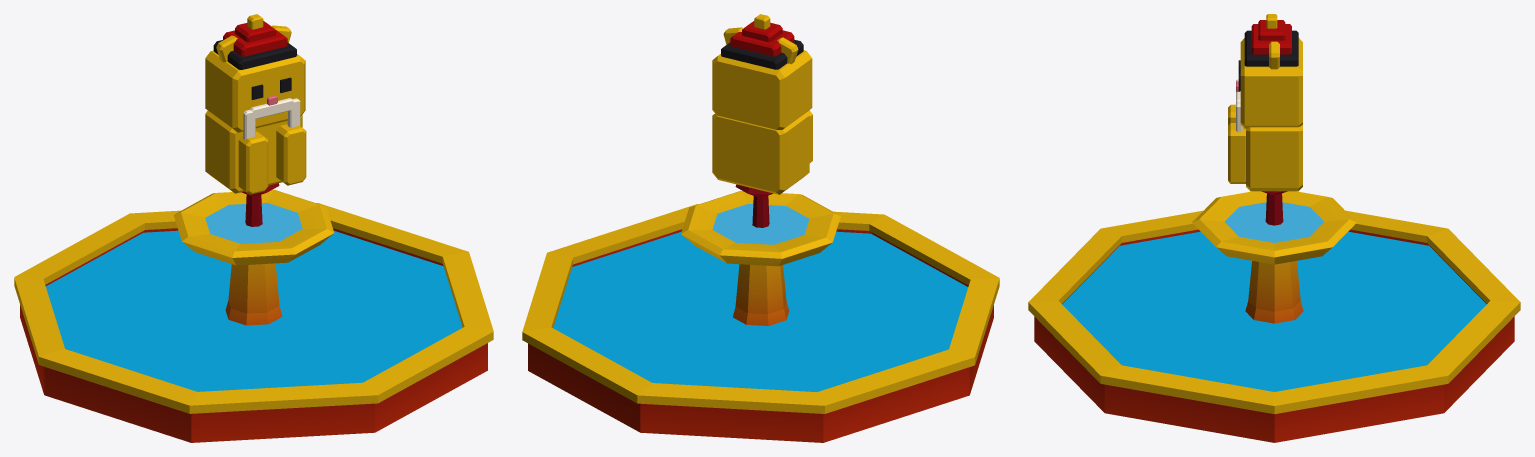
Rendered from fountain.glb.
The picture shows the model from 3 angles, left to right: view 1: azimuth 30°, elevation 25°; view 2: azimuth 150°, elevation 25°; view 3: azimuth 270°, elevation 25°; orthographic projection.
Parts seen in each view (by area): view 1: fountain_water, fountain_metal, fountain_stone, fountain_plain; view 2: fountain_water, fountain_metal, fountain_stone, fountain_plain; view 3: fountain_water, fountain_metal, fountain_stone, fountain_plain.
Boxes of the visible parts, bbox=[...] form: fountain_water: bbox=[45, 202, 462, 391]; fountain_metal: bbox=[14, 14, 493, 413]; fountain_stone: bbox=[20, 183, 487, 442]; fountain_plain: bbox=[213, 21, 300, 139]; fountain_water: bbox=[553, 204, 968, 391]; fountain_metal: bbox=[522, 14, 999, 413]; fountain_stone: bbox=[528, 184, 993, 442]; fountain_plain: bbox=[721, 21, 803, 69]; fountain_water: bbox=[1062, 202, 1486, 391]; fountain_metal: bbox=[1028, 14, 1520, 414]; fountain_stone: bbox=[1034, 191, 1514, 442]; fountain_plain: bbox=[1236, 20, 1298, 132].
Size of the model in its own units: 6.56 by 4.79 by 6.56.
